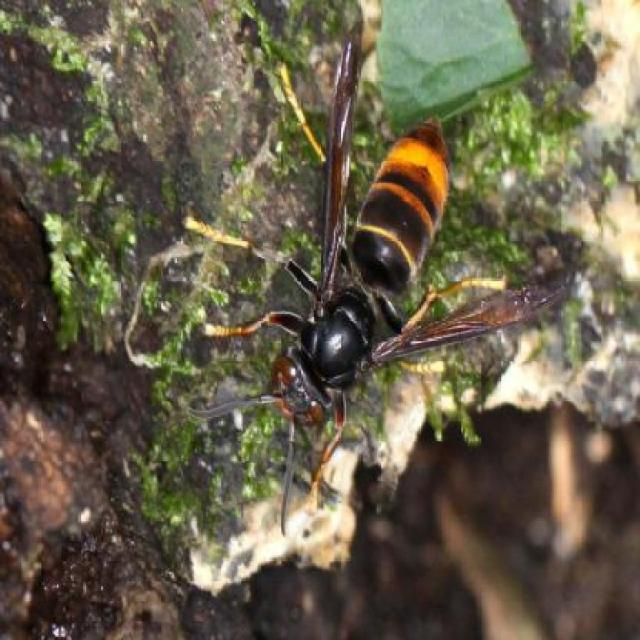Wasp: (98, 36, 576, 534)
